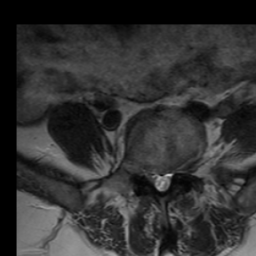CCS_stenosis: (158, 166, 165, 197)
LFS_stenosis: (174, 160, 183, 181)
LLS_normal: (166, 166, 173, 191)
RFS_normal: (142, 160, 153, 185)
RLS_normal: (152, 166, 159, 192)
